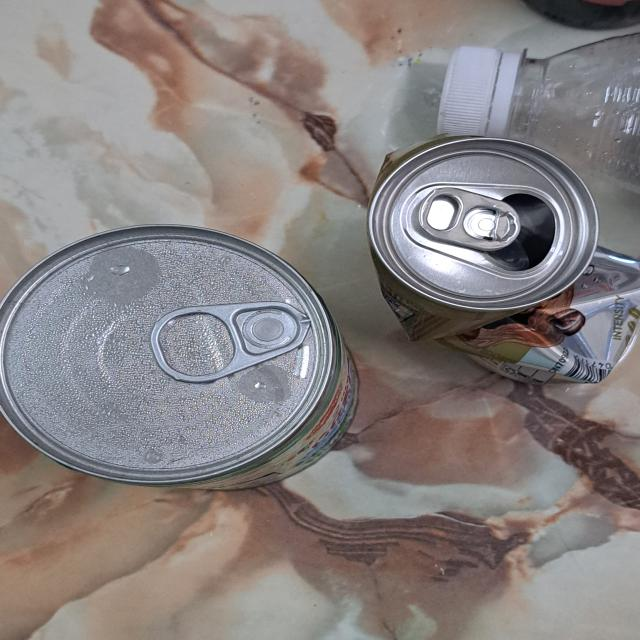can: (0, 223, 358, 497), (367, 138, 640, 384)
plastic bottle: (508, 29, 640, 194)
plastic bottle cap: (438, 45, 502, 140)
pop tab: (152, 301, 312, 381), (418, 186, 522, 253)
